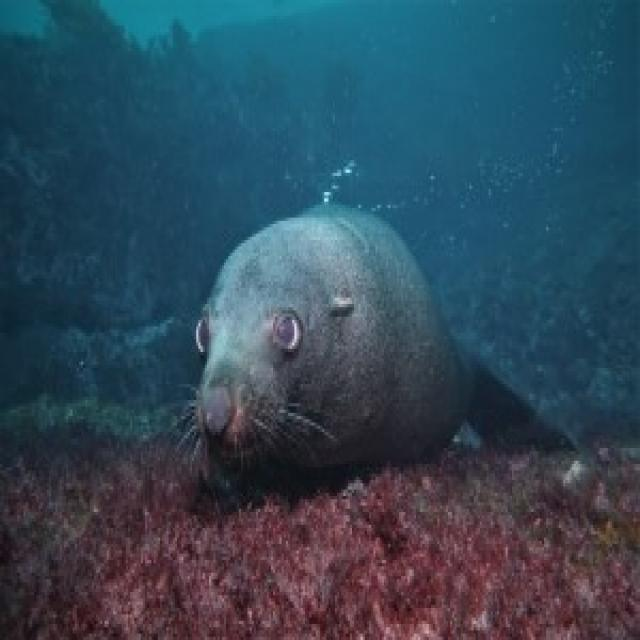Seal: (183, 158, 510, 528)
